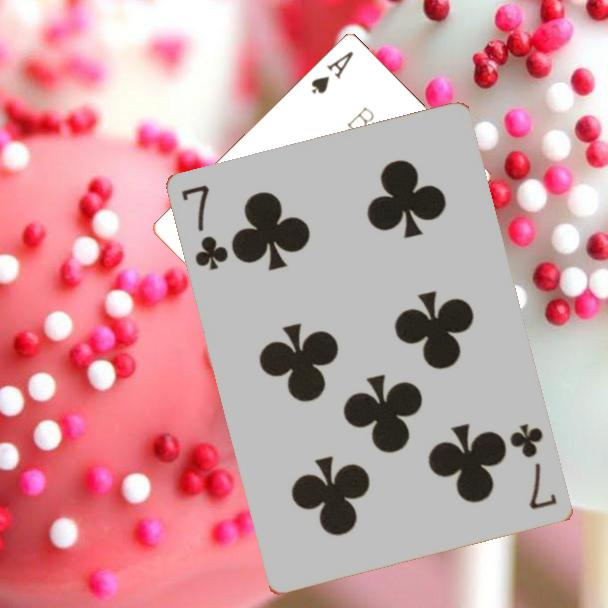c07: (506, 420, 560, 513), (179, 181, 232, 274)
s01: (307, 47, 356, 96)
